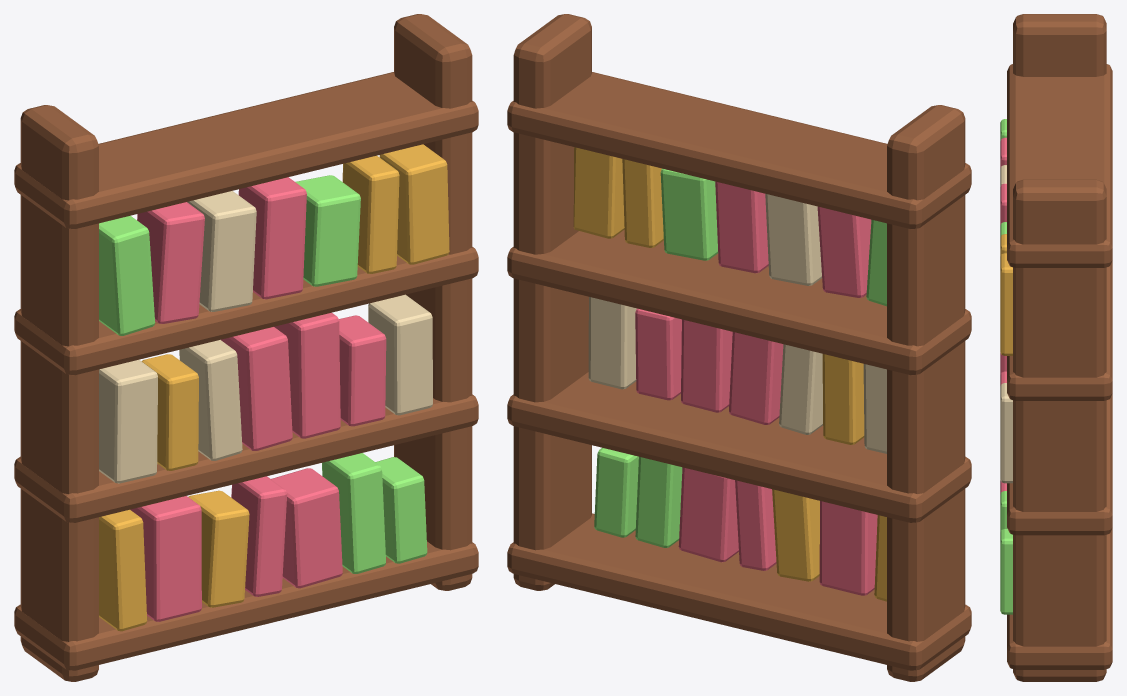
File: bookshelf.glb
The picture shows the model from 3 angles, left to right: view 1: azimuth 30°, elevation 25°; view 2: azimuth 150°, elevation 25°; view 3: azimuth 270°, elevation 25°; orthographic projection. The views are drawn at different scales.
Parts seen in each view (by area): view 1: BookshelfMesh; view 2: BookshelfMesh; view 3: BookshelfMesh.
Boxes of the visible parts, x1,y1,x2,y2 form: BookshelfMesh: (14, 14, 478, 681); BookshelfMesh: (507, 14, 971, 681); BookshelfMesh: (1000, 14, 1112, 681).
Size of the model in its own units: 2.55 by 3.2 by 0.66.
